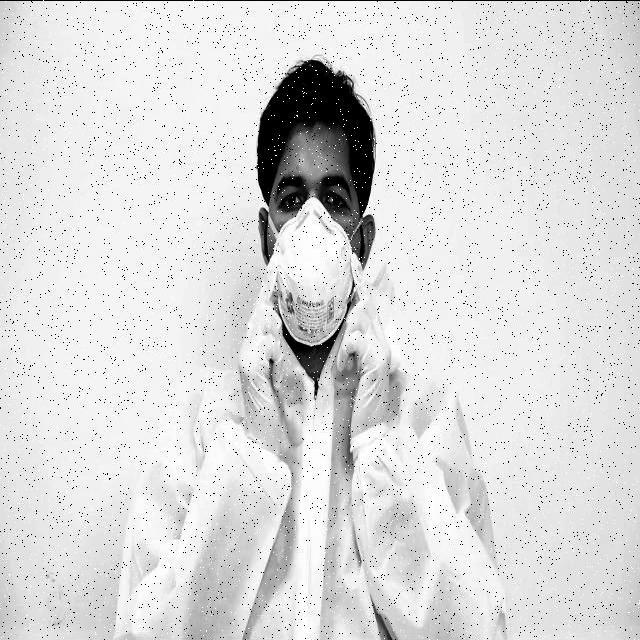apron: (329, 245, 395, 458), (225, 256, 280, 444)
